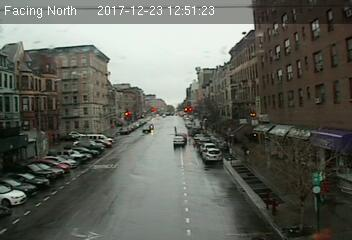car: (203, 148, 222, 161), (173, 135, 185, 145)
